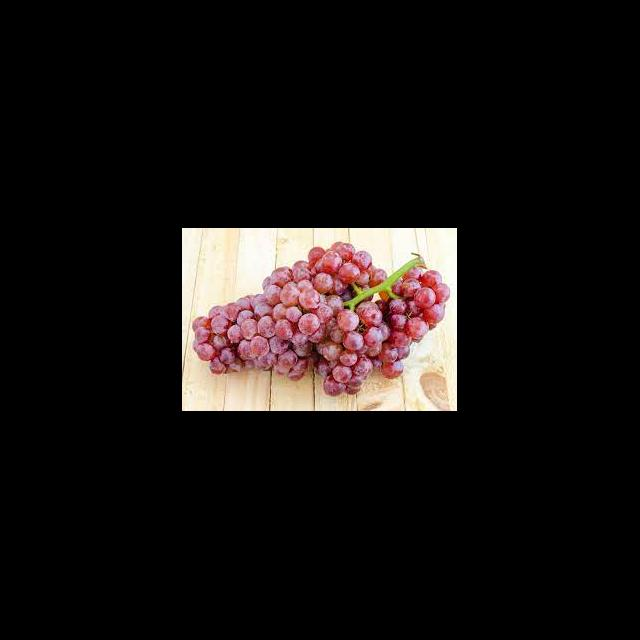grape: (192, 242, 450, 396)
